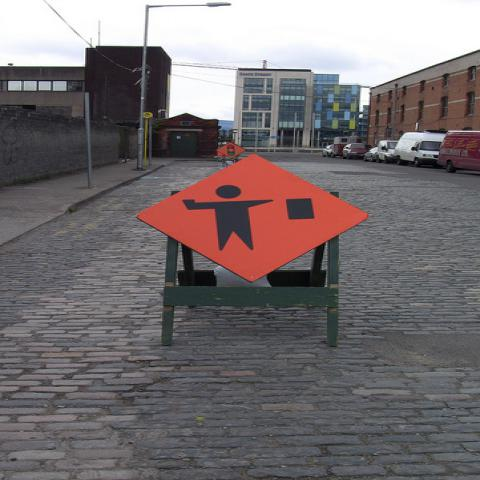car: (391, 130, 446, 167), (436, 130, 479, 174), (376, 140, 400, 163), (342, 143, 372, 159), (364, 147, 378, 162), (322, 144, 334, 156)
